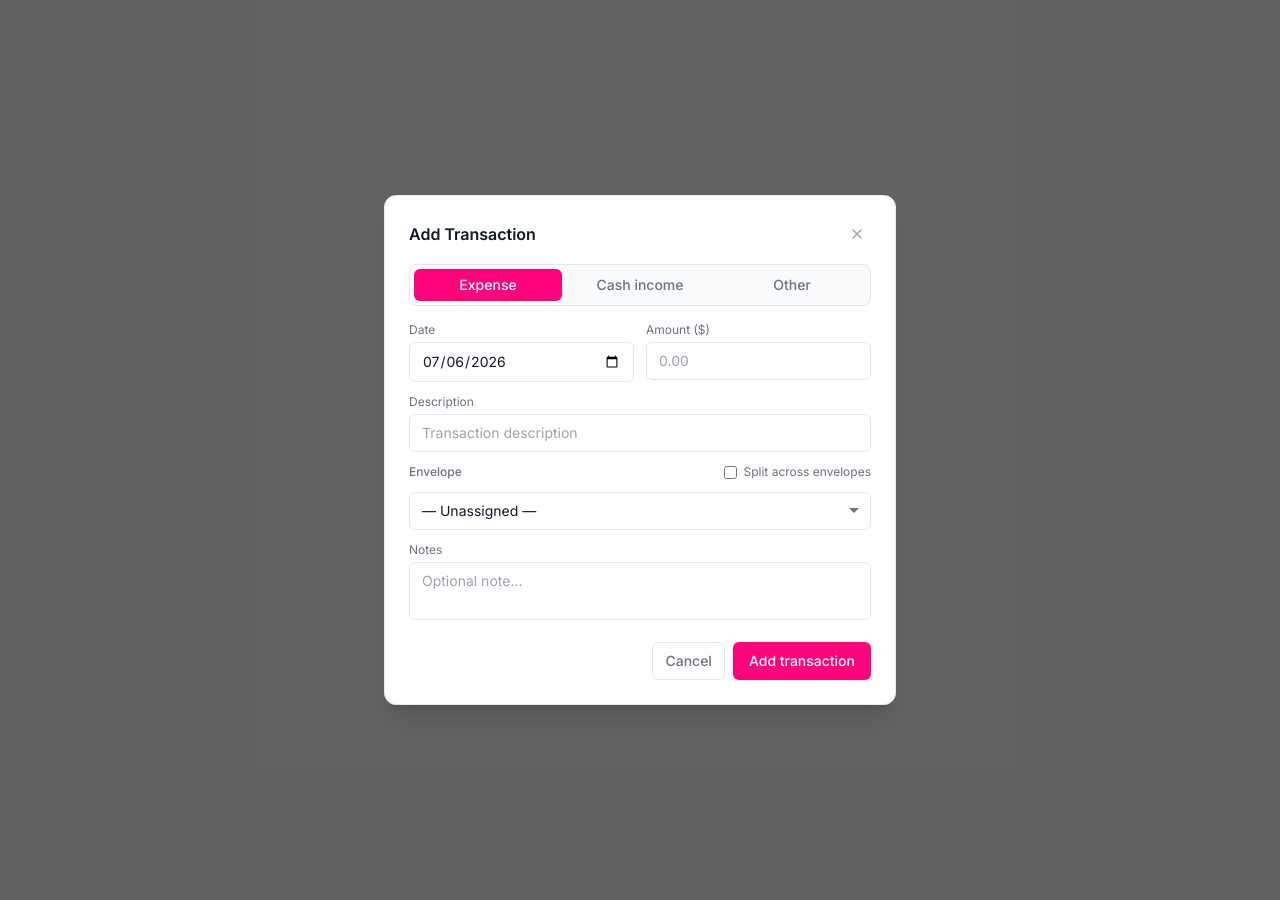
Test: Flow 3 — Add transaction: Other tab › shows move-money UI when kind = move-money
This screenshot has width=1280, height=900.
Click the button "Other" at (792, 285), box [718,269,866,301]
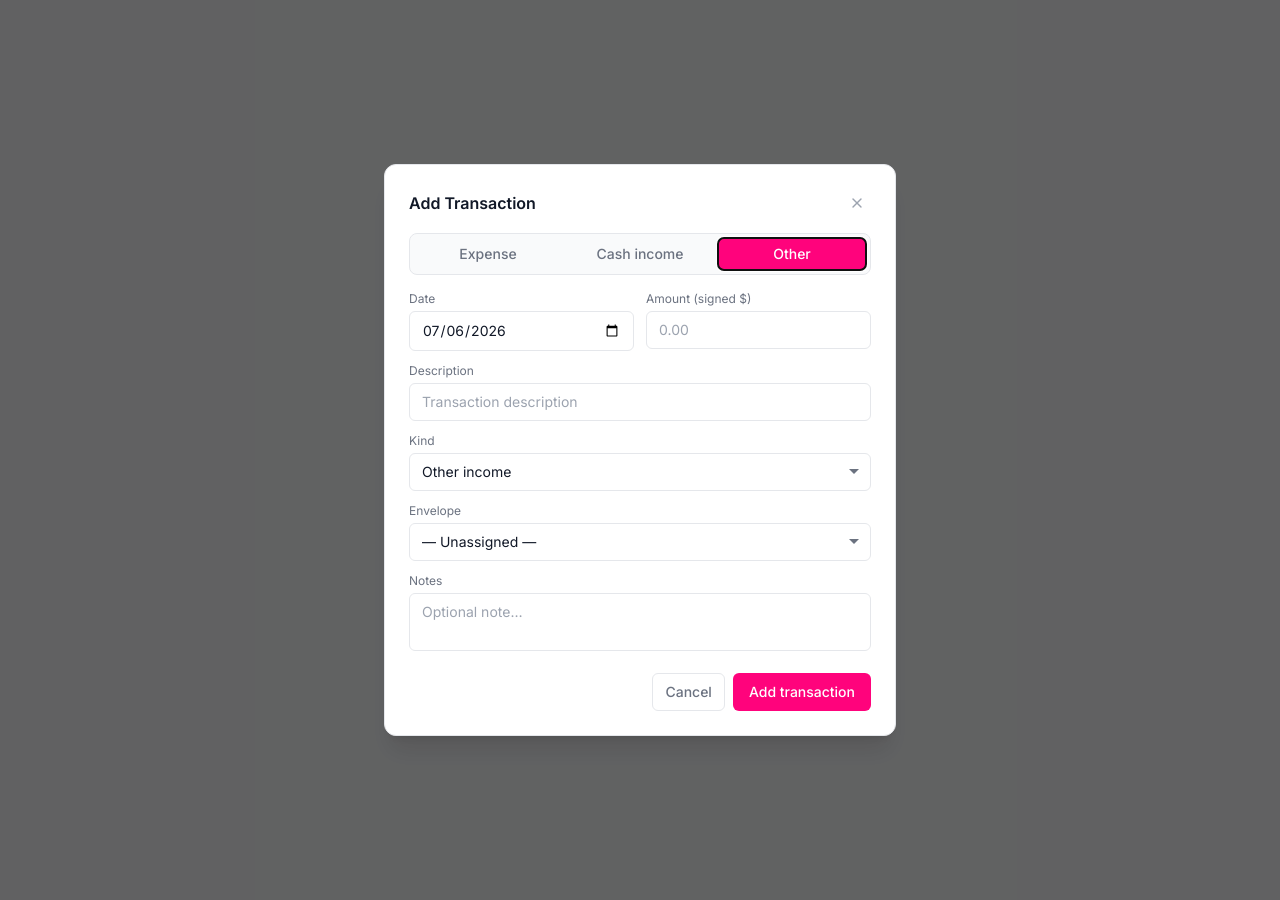
Select "Move money" in the dropdown below "Kind" at (640, 472), box [409,453,871,491]
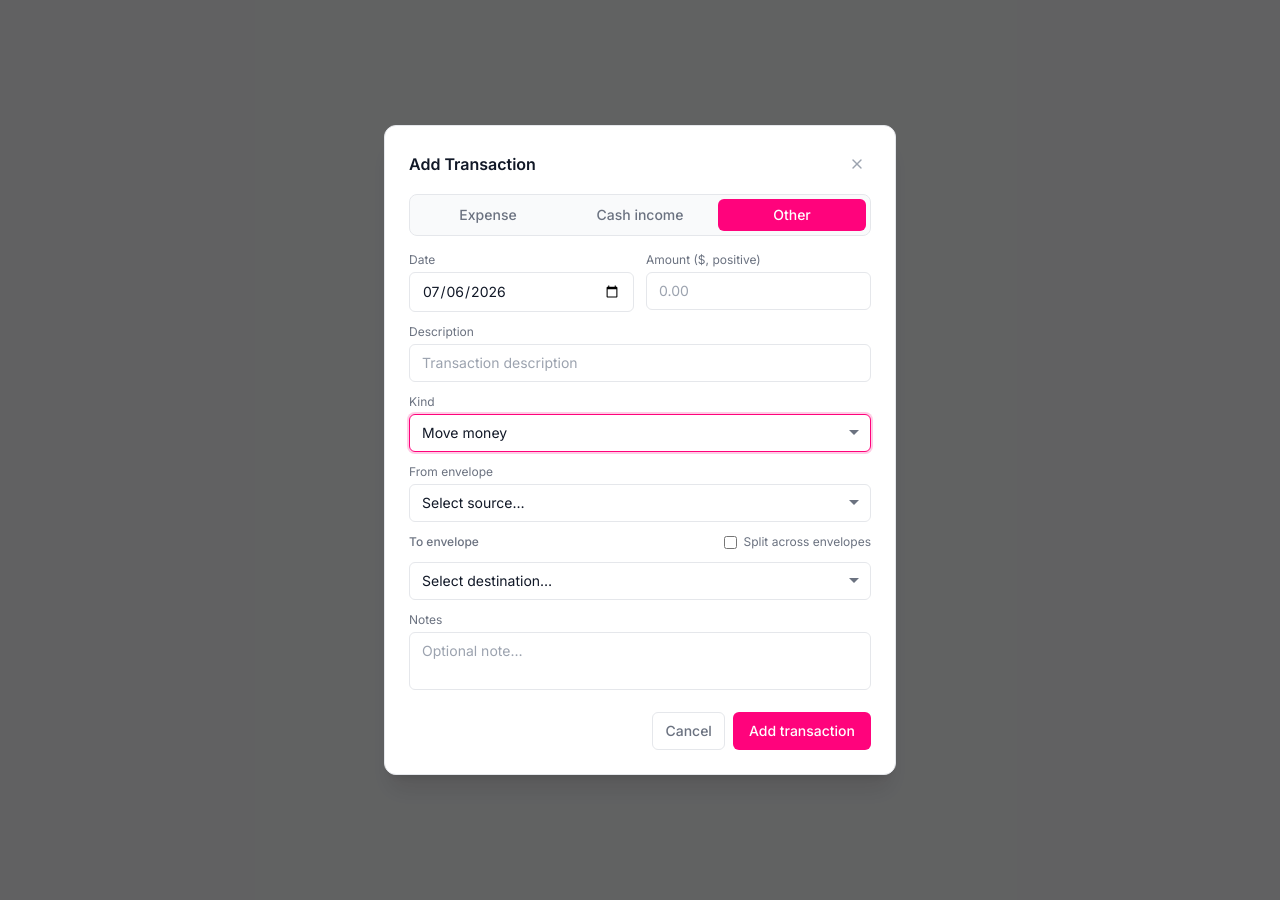
Check: the text "From envelope" is shown, box [409,464,493,479]
Check: the text "To envelope" is shown, box [409,534,479,550]
